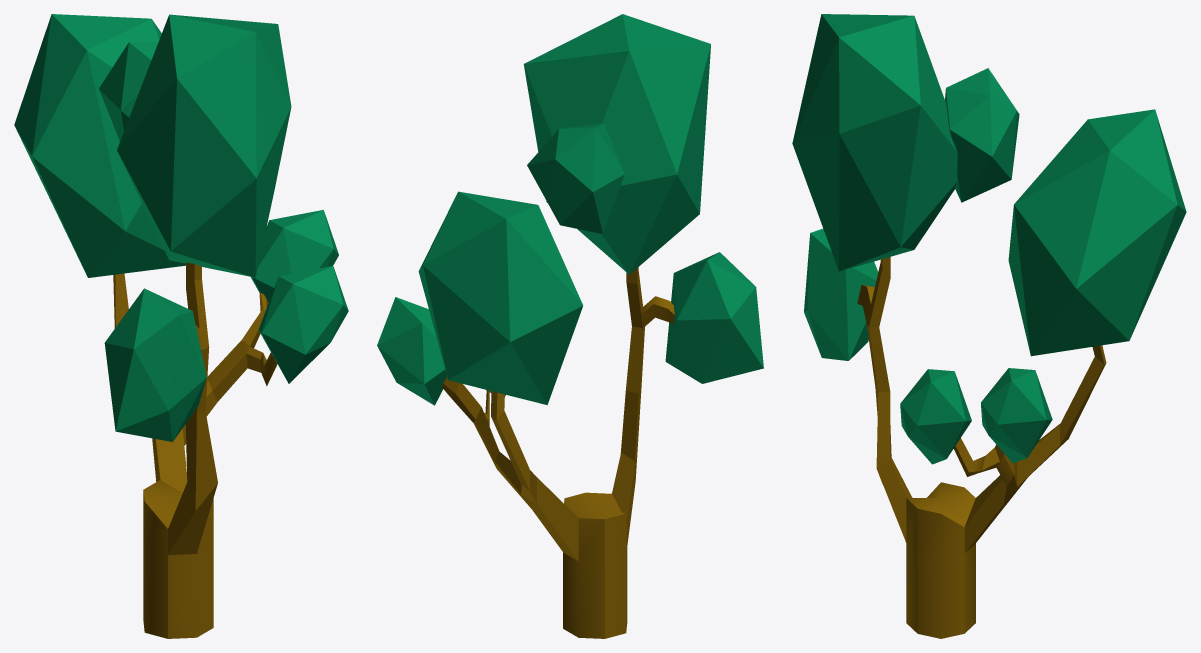
The model's file is tree_01.fbx.
3 renders of one model, left to right at view 1: azimuth 30°, elevation 25°; view 2: azimuth 150°, elevation 25°; view 3: azimuth 270°, elevation 25°, orthographic. The views are drawn at different scales.
Visible parts, largest first — view 1: pPlatonic1, pPlatonic3, pCube1, pPlatonic2, pPlatonic6, pPlatonic5, pPlatonic4; view 2: pPlatonic1, pPlatonic3, pCube1, pPlatonic2, pPlatonic4, pPlatonic5; view 3: pPlatonic1, pPlatonic3, pCube1, pPlatonic4, pPlatonic2, pPlatonic6, pPlatonic5.
Part boxes in pixels (x1=…): pPlatonic1: x1=117, y1=14, x2=291, y2=277; pPlatonic3: x1=14, y1=14, x2=185, y2=277; pCube1: x1=113, y1=262, x2=277, y2=638; pPlatonic2: x1=104, y1=288, x2=206, y2=441; pPlatonic6: x1=258, y1=266, x2=348, y2=383; pPlatonic5: x1=251, y1=210, x2=338, y2=302; pPlatonic4: x1=99, y1=42, x2=158, y2=141; pPlatonic1: x1=523, y1=14, x2=710, y2=274; pPlatonic3: x1=418, y1=191, x2=583, y2=405; pCube1: x1=442, y1=267, x2=674, y2=638; pPlatonic2: x1=665, y1=252, x2=763, y2=383; pPlatonic4: x1=527, y1=123, x2=624, y2=234; pPlatonic5: x1=377, y1=297, x2=447, y2=405; pPlatonic1: x1=792, y1=14, x2=957, y2=271; pPlatonic3: x1=1008, y1=109, x2=1186, y2=356; pCube1: x1=857, y1=257, x2=1106, y2=638; pPlatonic4: x1=945, y1=68, x2=1019, y2=202; pPlatonic2: x1=804, y1=228, x2=878, y2=360; pPlatonic6: x1=900, y1=369, x2=971, y2=464; pPlatonic5: x1=981, y1=368, x2=1052, y2=463.
Bounding box in the file's own units: 5.32 × 10.13 × 6.07.
